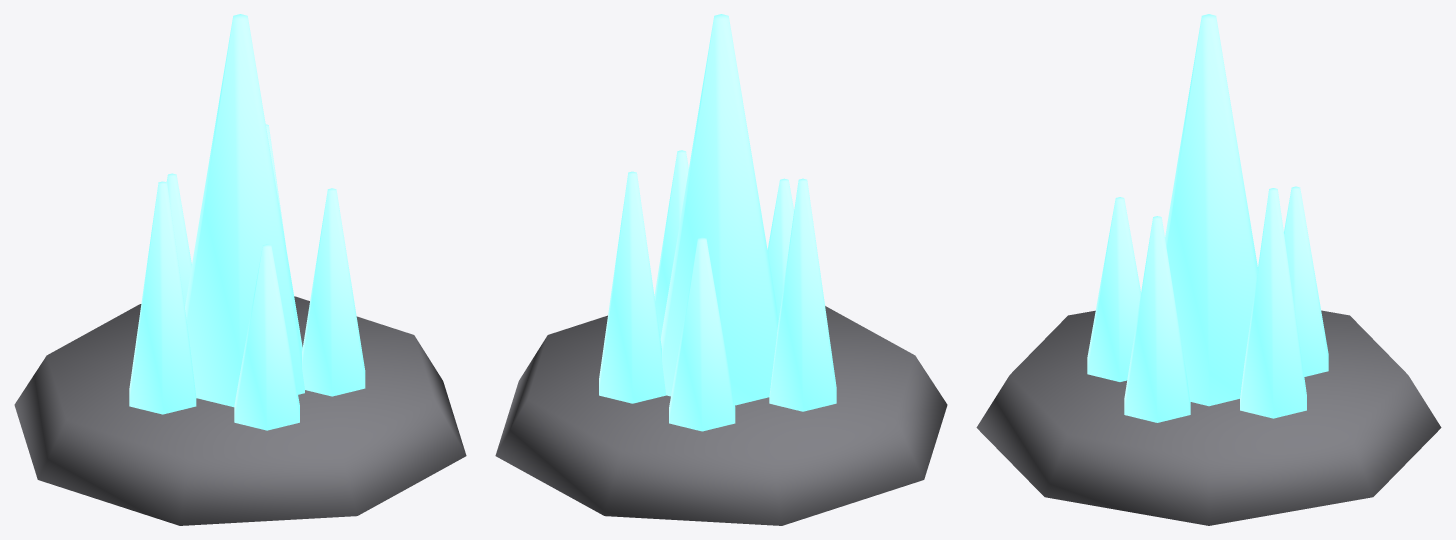
Rendered from b7b42364-e2e0-4964-8483-a46dfc4385d3.glb.
3 renders of one model, left to right at view 1: azimuth 30°, elevation 25°; view 2: azimuth 150°, elevation 25°; view 3: azimuth 270°, elevation 25°, orthographic.
Visible parts, largest first — view 1: Generated3DMesh; view 2: Generated3DMesh; view 3: Generated3DMesh.
Part boxes in pixels (box(x1,y1,x2,y2)): Generated3DMesh: box(14, 14, 466, 525); Generated3DMesh: box(495, 14, 947, 525); Generated3DMesh: box(976, 14, 1441, 525).
Size of the model in its own units: 2.8 by 2.73 by 2.8.
